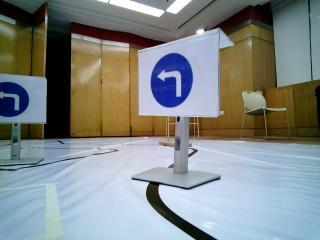left: (142, 51, 212, 111), (6, 80, 41, 118)
